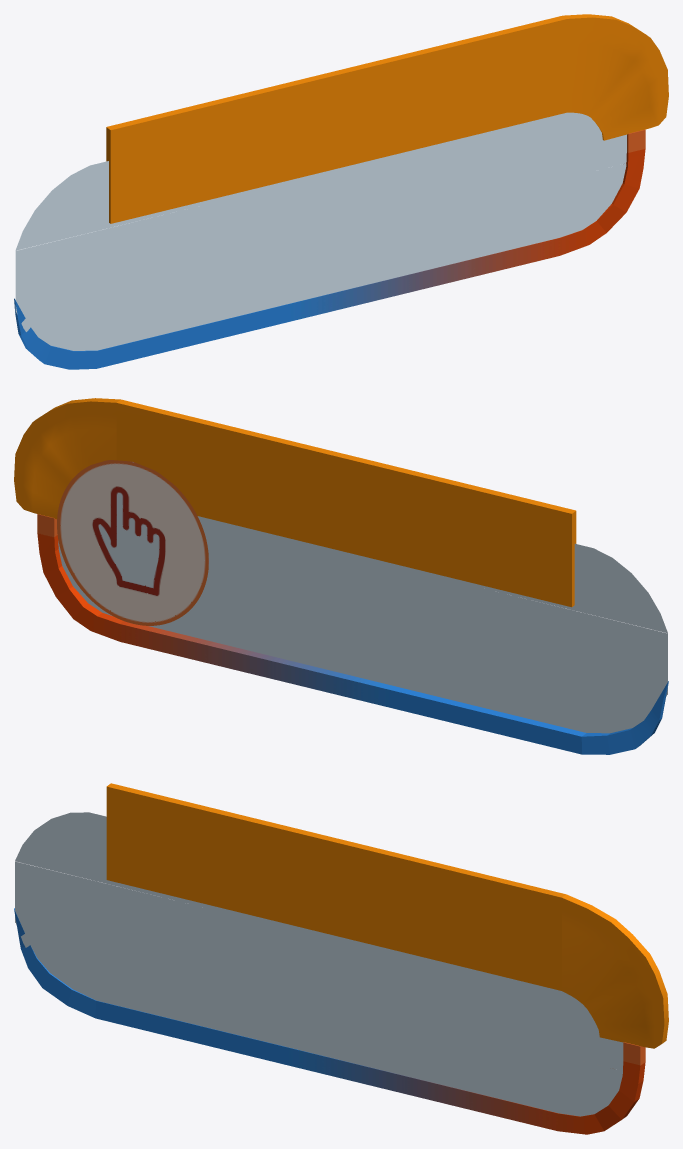
The model's file is Tutorial Panel.fbx.
3 views of the same model, one above another, from view 1: azimuth 30°, elevation 25°; view 2: azimuth 150°, elevation 25°; view 3: azimuth 330°, elevation 25° (orthographic).
Parts seen in each view (by area): view 1: orange_section, main_panel_middle, main_panel_bottom, bottom_border, main_panel_top; view 2: orange_section, main_panel_middle, main_panel_bottom, circle_icon, bottom_border, main_panel_top; view 3: orange_section, main_panel_middle, main_panel_bottom, bottom_border, main_panel_top.
Part boxes in pixels (<box>): orange_section: <box>106,14,668,223</box>; main_panel_middle: <box>15,113,626,311</box>; main_panel_bottom: <box>16,163,626,350</box>; bottom_border: <box>14,149,645,369</box>; main_panel_top: <box>15,112,579,250</box>; orange_section: <box>14,398,576,607</box>; main_panel_middle: <box>58,519,667,694</box>; main_panel_bottom: <box>58,546,666,733</box>; circle_icon: <box>57,460,208,625</box>; bottom_border: <box>37,533,668,754</box>; main_panel_top: <box>197,516,667,633</box>; orange_section: <box>106,783,668,1048</box>; main_panel_middle: <box>15,861,623,1070</box>; main_panel_bottom: <box>16,923,622,1116</box>; bottom_border: <box>14,908,645,1134</box>; main_panel_top: <box>15,812,574,998</box>.
Size of the model in its own units: 11.13 by 3.85 by 0.3621.
Materials: 5 (4 with a texture image).
